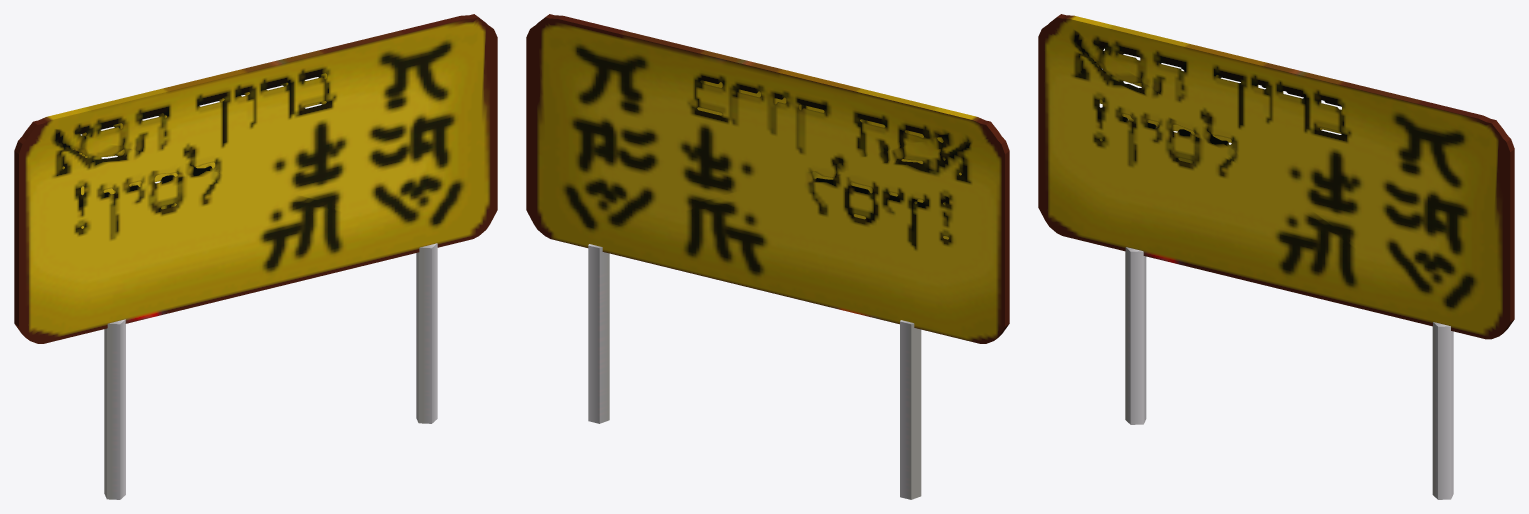
Rendered from FinSign.glb.
3 views of the same model, side by side, from view 1: azimuth 30°, elevation 25°; view 2: azimuth 150°, elevation 25°; view 3: azimuth 330°, elevation 25° (orthographic).
Parts seen in each view (by area): view 1: FinSign; view 2: FinSign; view 3: FinSign.
Boxes of the visible parts, x1,y1,x2,y2 form: FinSign: (14, 14, 497, 499); FinSign: (526, 14, 1009, 499); FinSign: (1038, 14, 1514, 499).
Size of the model in its own units: 150 by 118 by 5.52.
Materials: 1 (1 with a texture image).
